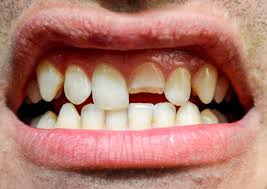normal: (90, 64, 128, 108), (63, 65, 90, 105), (163, 70, 190, 103), (128, 104, 154, 129), (81, 103, 105, 130), (58, 101, 80, 129), (176, 102, 200, 126), (105, 105, 127, 131), (153, 104, 175, 129), (37, 110, 56, 129), (216, 78, 227, 105), (27, 82, 41, 101)
rough: (129, 61, 163, 95)
yellow: (38, 64, 63, 101), (193, 65, 214, 104), (201, 108, 219, 125)
